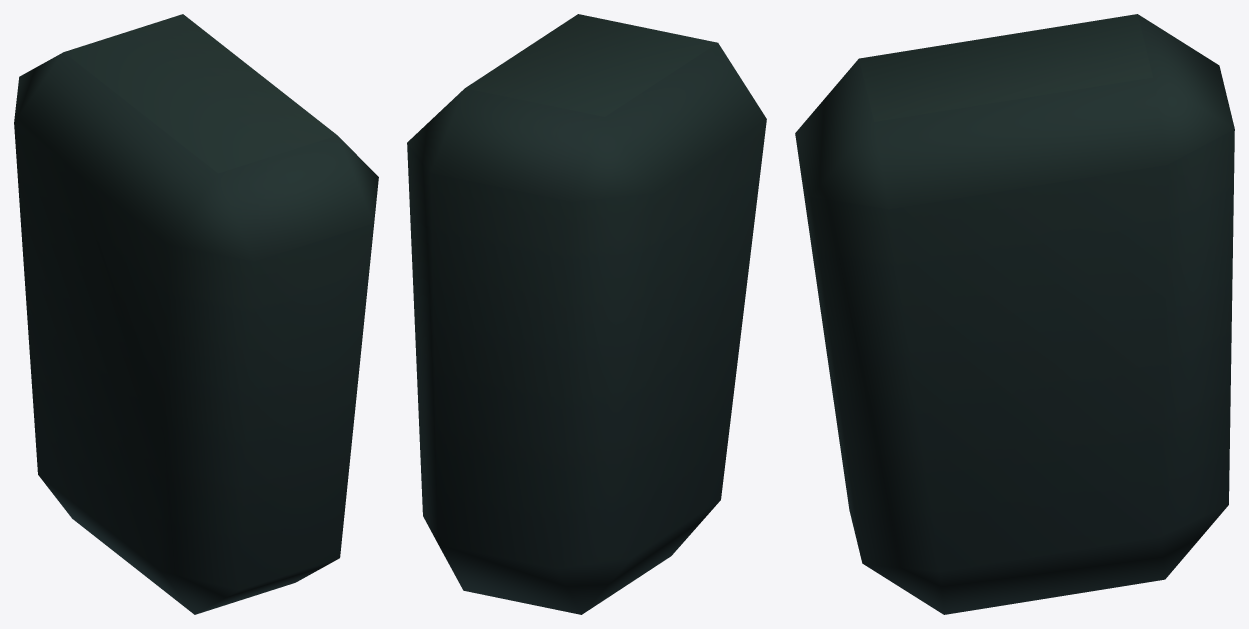
File: holster.fbx
3 renders of one model, left to right at view 1: azimuth 30°, elevation 25°; view 2: azimuth 150°, elevation 25°; view 3: azimuth 270°, elevation 25°, orthographic. The views are drawn at different scales.
Parts seen in each view (by area): view 1: holster; view 2: holster; view 3: holster.
Part boxes in pixels (left/top/right/bottom): holster: left=14, top=14, right=378, bottom=614; holster: left=407, top=14, right=766, bottom=614; holster: left=795, top=14, right=1234, bottom=614.
Size of the model in its own units: 13.55 by 26.39 by 19.77.
1 material, 1 textured.
